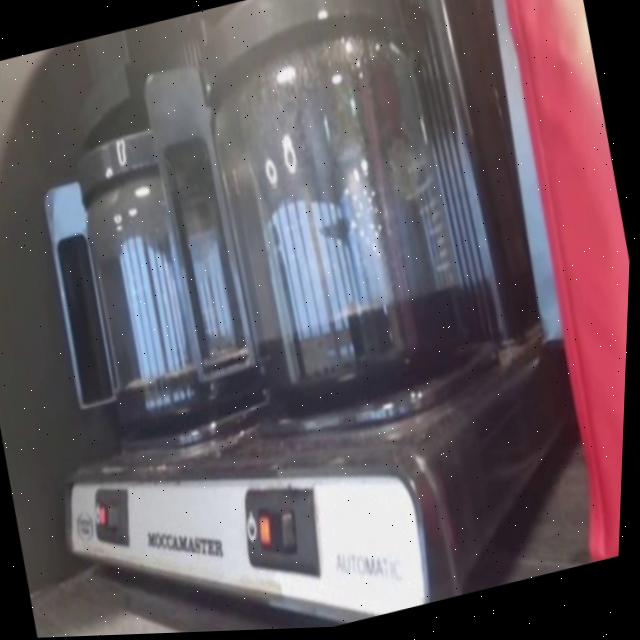coffee: (200, 50, 490, 432), (66, 161, 276, 452)
